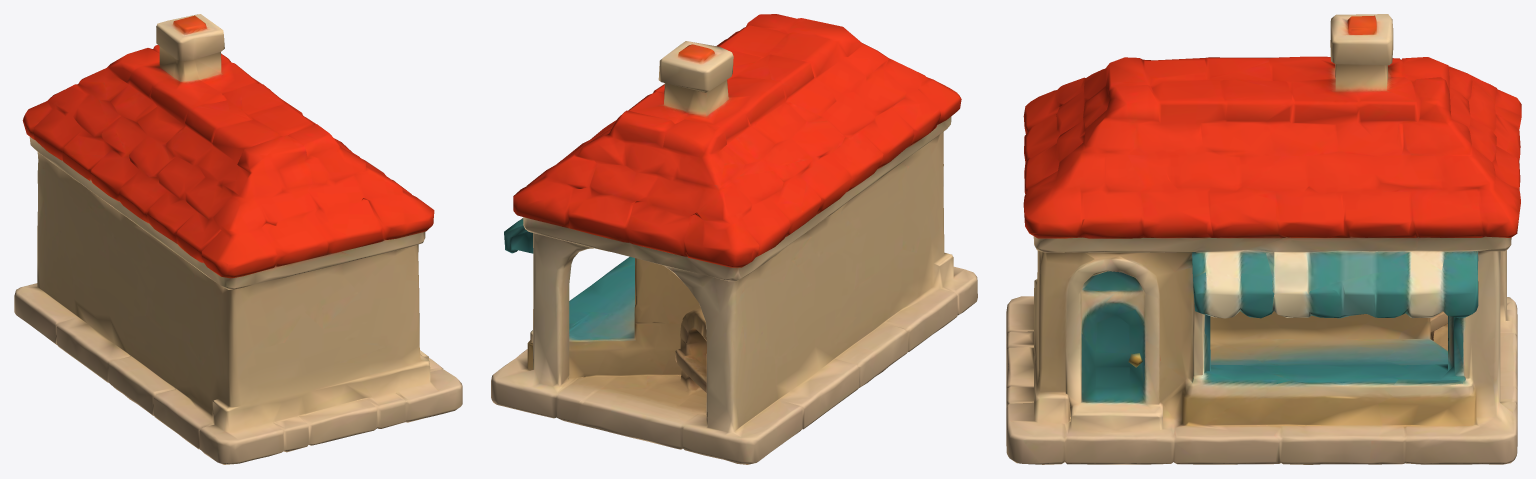
Rendered from bakery.glb.
3 renders of one model, left to right at view 1: azimuth 30°, elevation 25°; view 2: azimuth 150°, elevation 25°; view 3: azimuth 270°, elevation 25°, orthographic. The views are drawn at different scales.
Parts seen in each view (by area): view 1: tripo_node_6c203f35-85af-423d-9f21-0ffd465509af; view 2: tripo_node_6c203f35-85af-423d-9f21-0ffd465509af; view 3: tripo_node_6c203f35-85af-423d-9f21-0ffd465509af.
Part boxes in pixels (x1,y1,x2,y2): tripo_node_6c203f35-85af-423d-9f21-0ffd465509af: (14, 14, 462, 464); tripo_node_6c203f35-85af-423d-9f21-0ffd465509af: (491, 14, 977, 464); tripo_node_6c203f35-85af-423d-9f21-0ffd465509af: (1006, 14, 1521, 464).
Bounding box in the file's own units: 0.6595 × 0.7896 × 1.
Materials: 1 (1 with a texture image).
